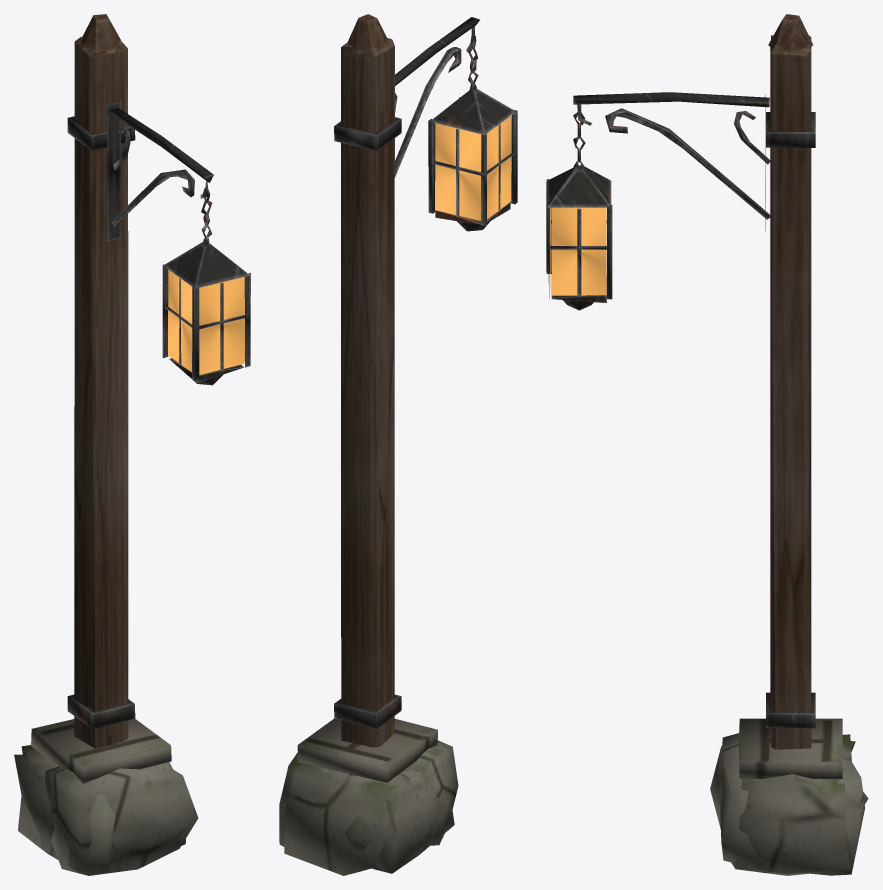
The model's file is lamp_post_lod1.glb.
3 views of the same model, side by side, from view 1: azimuth 30°, elevation 25°; view 2: azimuth 150°, elevation 25°; view 3: azimuth 270°, elevation 25° (orthographic).
Parts seen in each view (by area): view 1: lamp_post; view 2: lamp_post; view 3: lamp_post.
Boxes of the visible parts, bbox=[...] form: lamp_post: bbox=[14, 14, 250, 875]; lamp_post: bbox=[279, 14, 517, 875]; lamp_post: bbox=[546, 14, 868, 875].
Size of the model in its own units: 0.5128 by 3.08 by 1.07.
2 materials, 2 textured.
